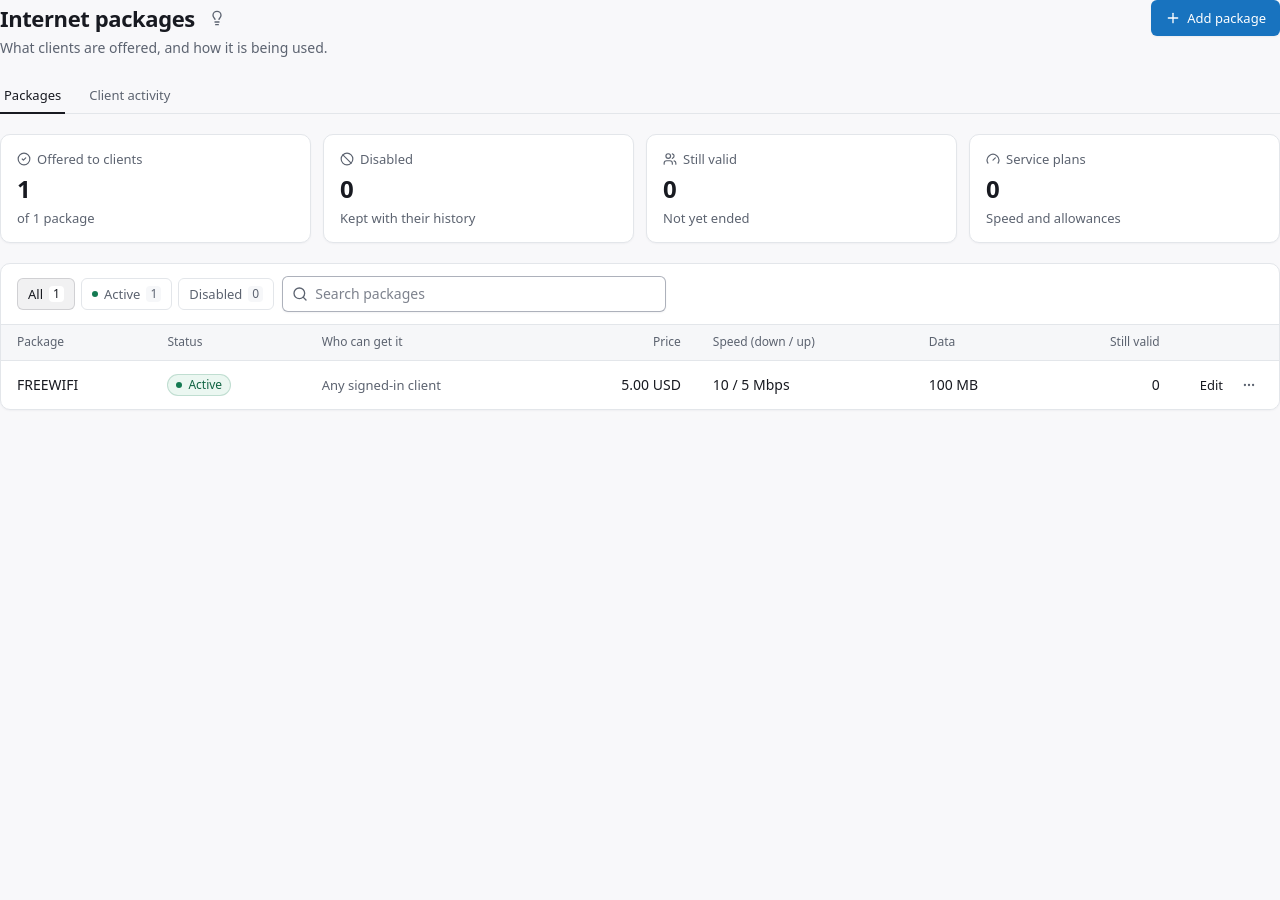
Test: InternetPackagesPage — packages › opens the package record with its saved versions as a timeline
Click the text "FREEWIFI" at (48, 384), box [17, 375, 78, 394]
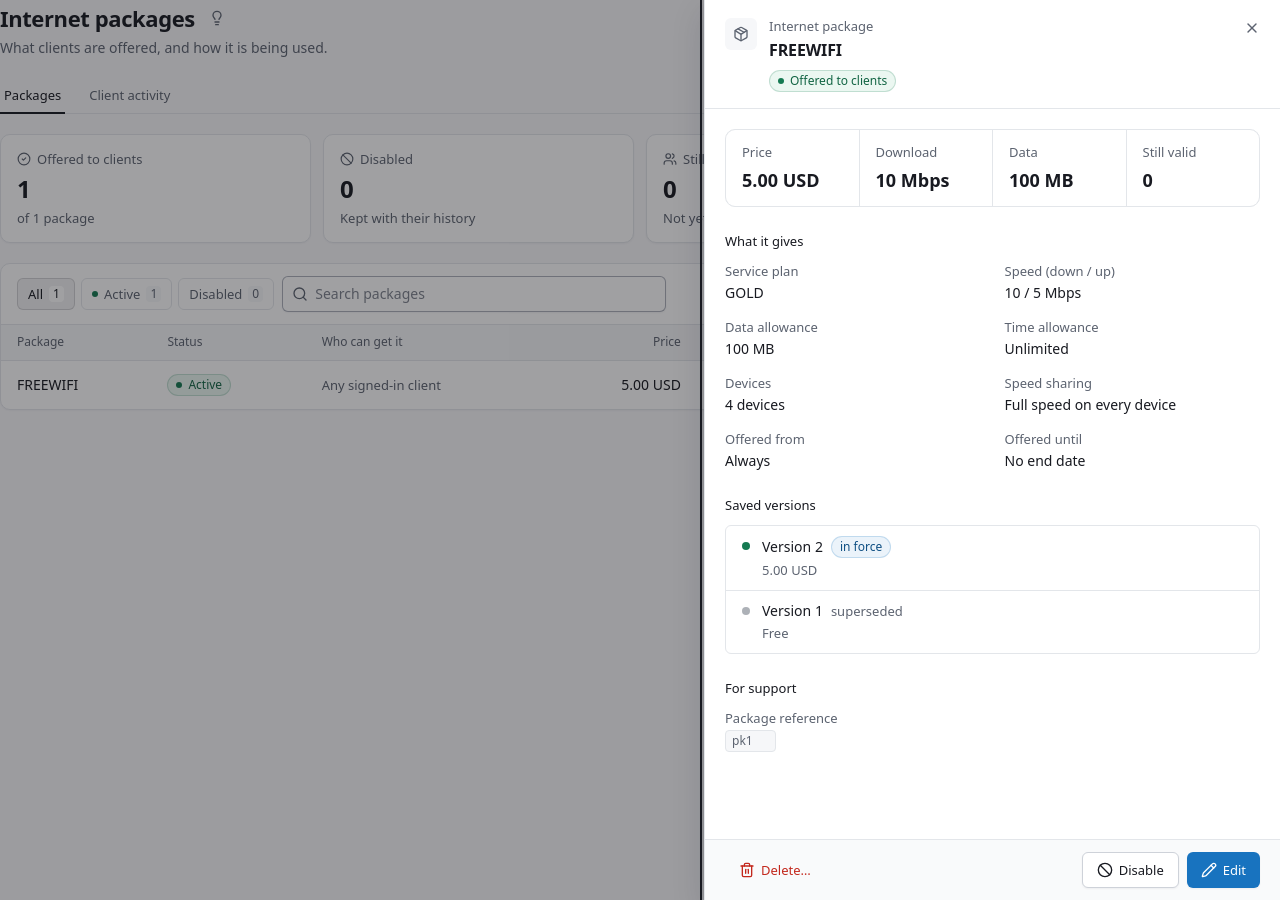
Check: the text "in force" is shown, box [831, 536, 891, 558]
Check: the text "Version 1" is shown, box [762, 601, 823, 621]
Check: the text "5.00 USD" is shown, box [742, 168, 820, 192]
